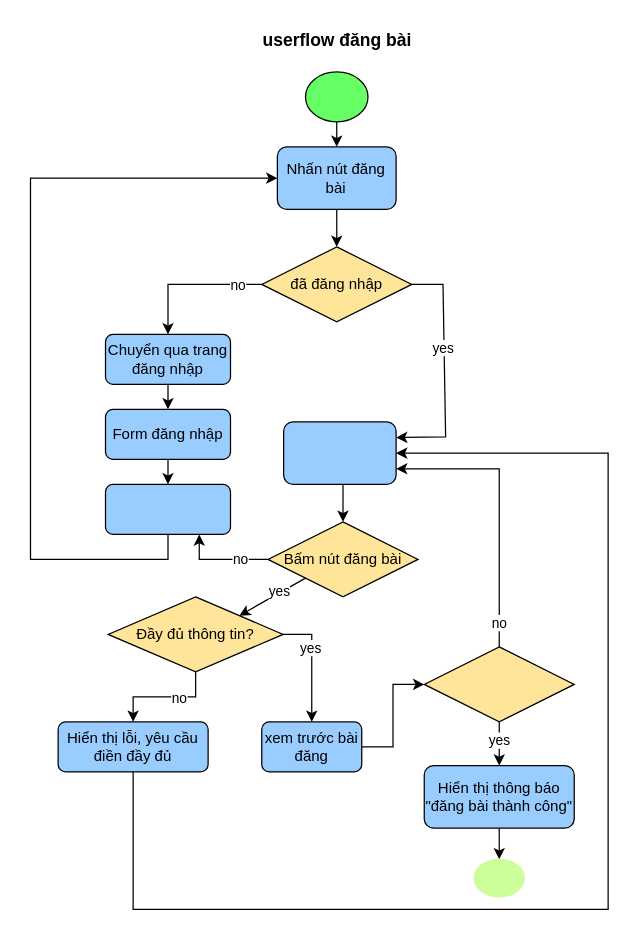
The diagram is 641 pixels wide and 941 high, and some of its shapes have lost their labels. Each missing label, with the centre of its shape:
"Bấm tiếp tục" belongs at [498,684].
"Chuyển về trang Home" belongs at [167,508].
"end" belongs at [498,877].
"Form điền thông tin bài đăng" belongs at [339,452].
"start" belongs at [336,96].
